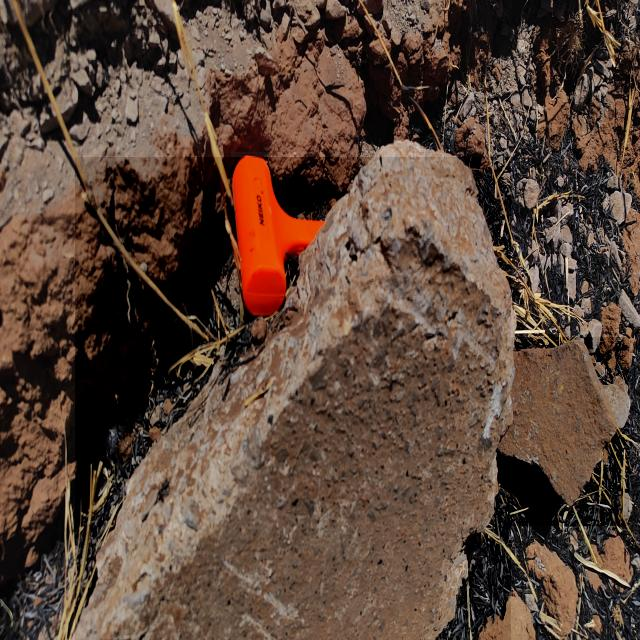Orange_hammer: (231, 152, 325, 318)
rock: (75, 157, 511, 640), (496, 337, 629, 526)
